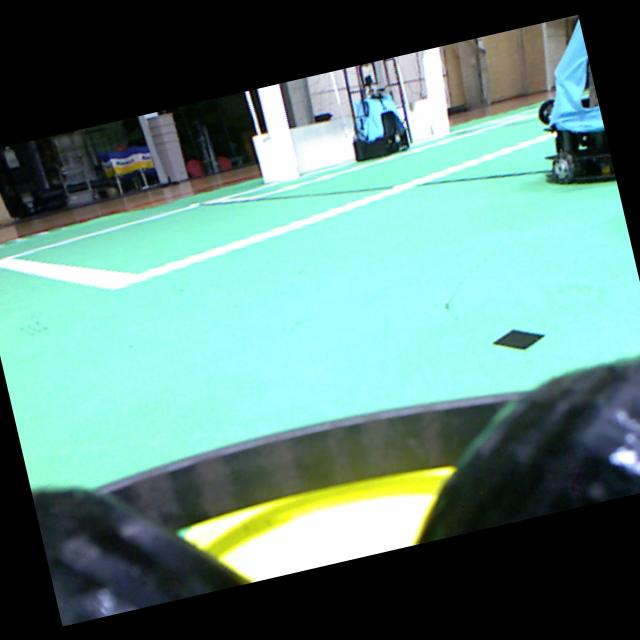ball: (177, 466, 454, 580)
goal: (257, 83, 298, 181), (422, 47, 449, 136)
